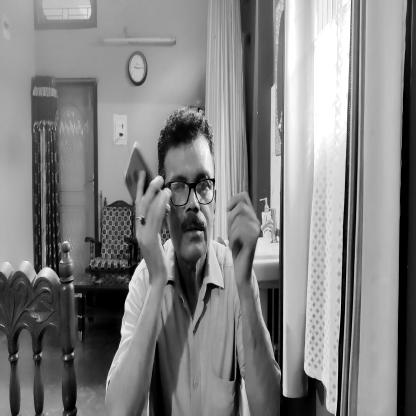Normal: (155, 108, 218, 273)
